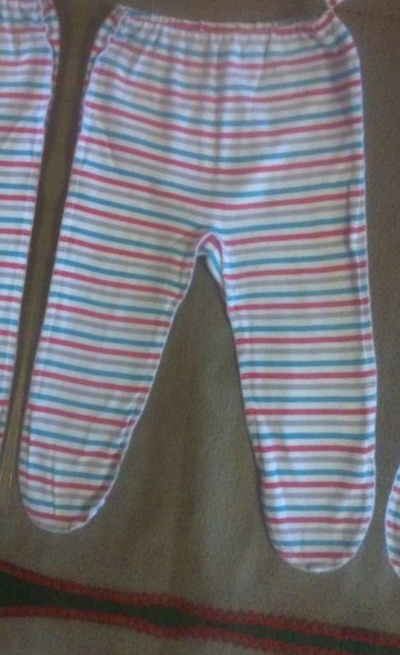Pants: (3, 0, 400, 600), (0, 0, 77, 539), (366, 51, 400, 655), (0, 637, 350, 655), (99, 0, 400, 8)
